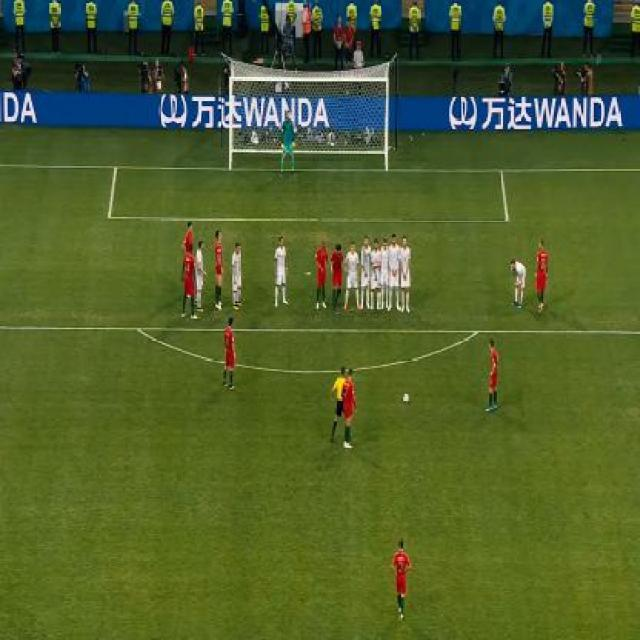ball: (402, 389, 411, 406)
player: (389, 532, 415, 620), (275, 106, 300, 179), (341, 363, 360, 452), (220, 315, 240, 394), (328, 365, 347, 445), (483, 335, 502, 414), (532, 235, 551, 314), (272, 233, 291, 309), (342, 240, 361, 313), (506, 255, 529, 311), (182, 243, 198, 323), (398, 234, 414, 314), (313, 236, 330, 310), (212, 227, 226, 313), (330, 240, 346, 309), (388, 232, 401, 312), (359, 237, 373, 311), (230, 239, 244, 310), (194, 237, 207, 313), (370, 238, 383, 311), (379, 237, 390, 308), (182, 221, 196, 254)
